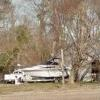Boat: (3, 58, 68, 86)
